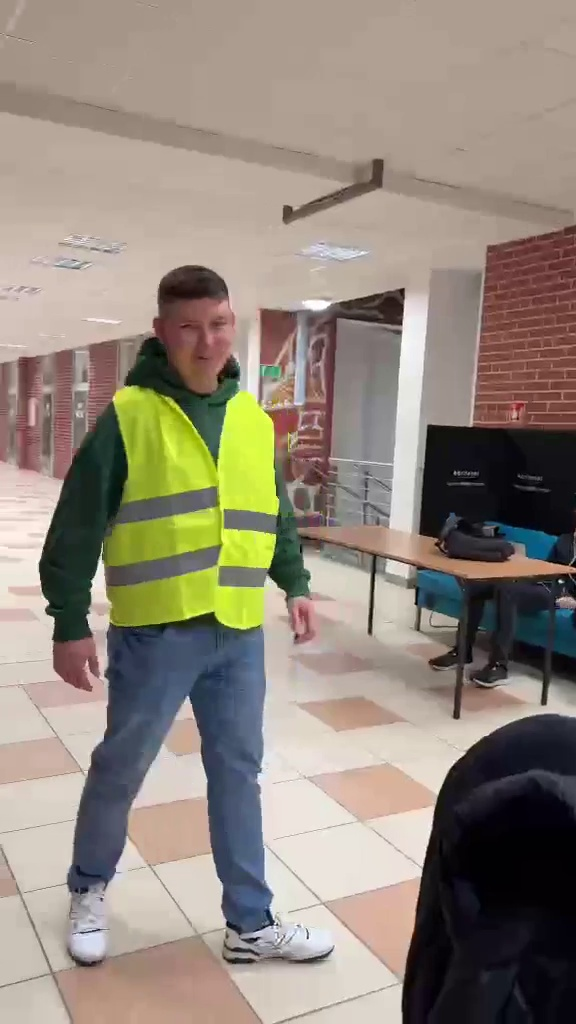vest: (45, 254, 340, 980)
